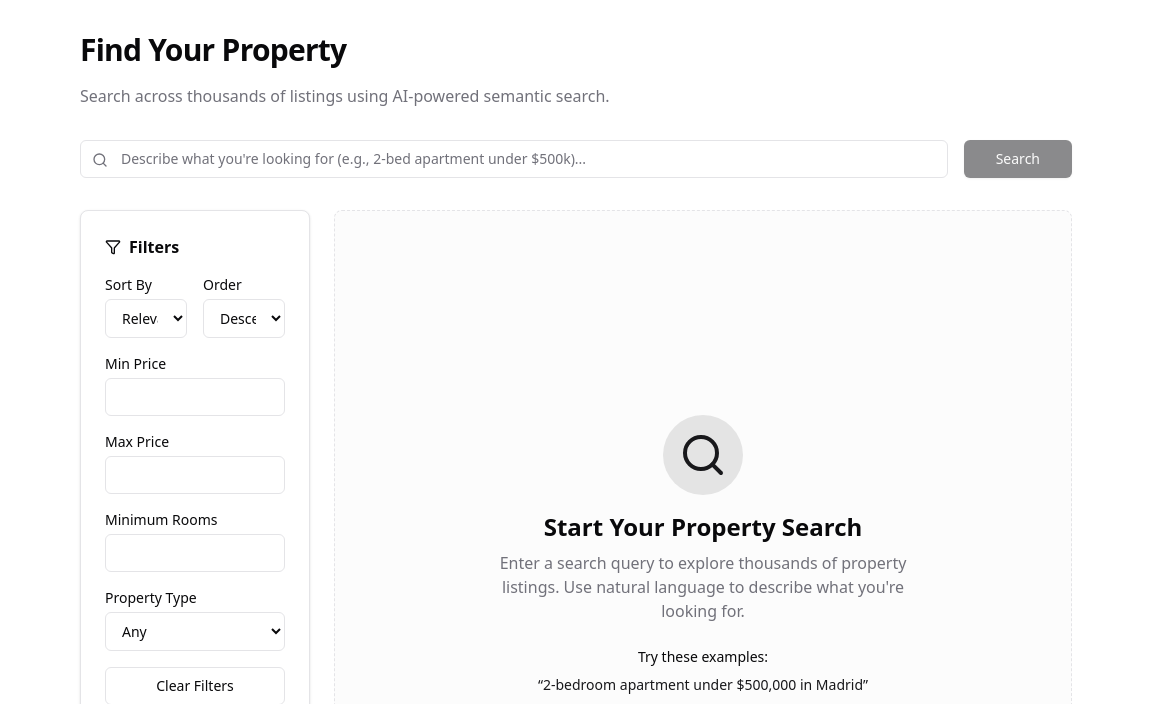
Test case: SearchPage › handles missing id and renders area
This screenshot has width=1152, height=704.
Replace the text in the field named "Search query" with "Area" at (514, 159), box [80,140,948,178]
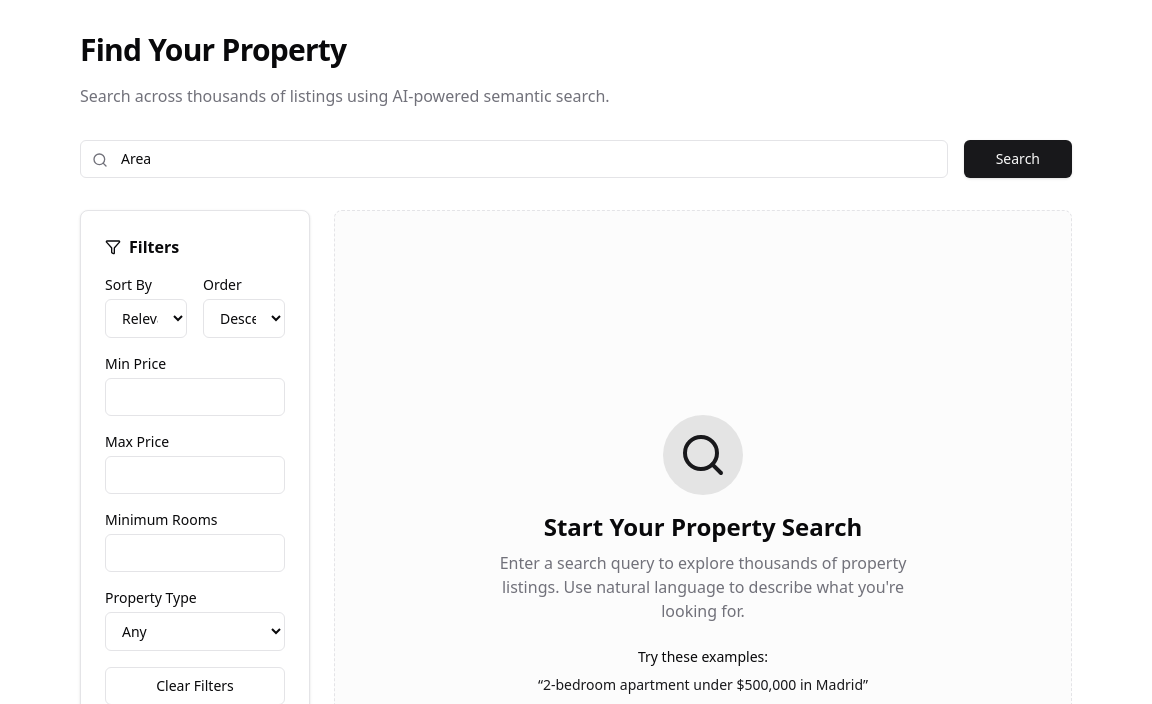
Click the button "Search" at (1018, 159), box [964,140,1072,178]
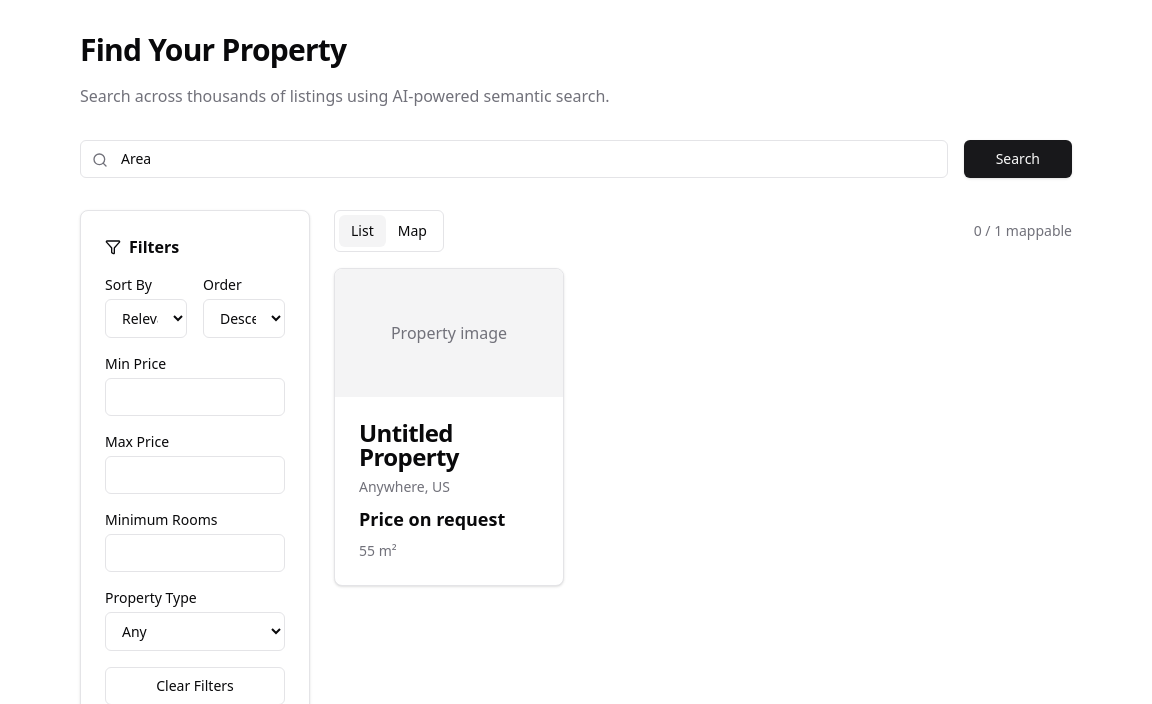
Expected: the text "55 m²" is shown, [359,541,397,560]
